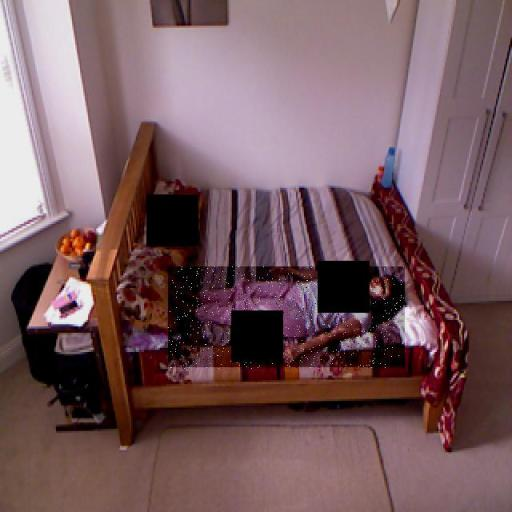Fall: (168, 267, 405, 370)
